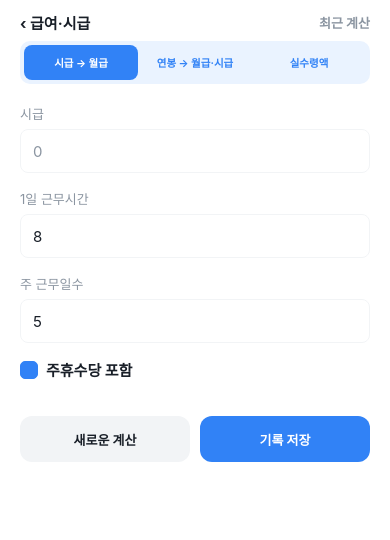
Test: SalaryScreen › converts an annual salary into monthly pay and an hourly rate
Click the element with test id "mode-annual": (195, 64) [157, 57, 233, 70]
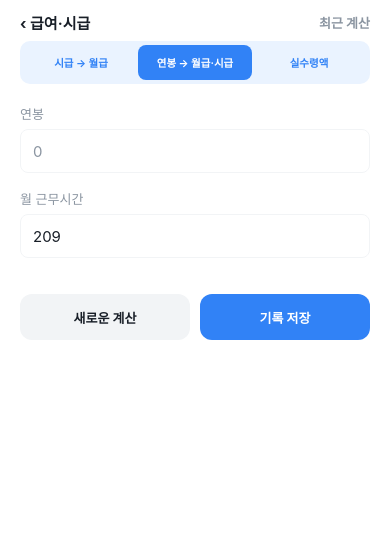
In the field with test id "input-annual-salary": (195, 151) [20, 129, 370, 173], type "36000000"
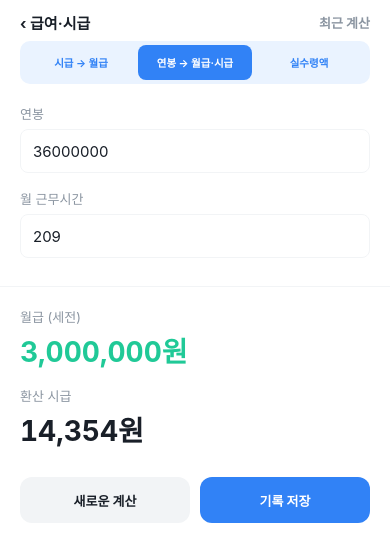
Expected: the text "3,000,000원" is shown, [20, 335, 188, 369]
